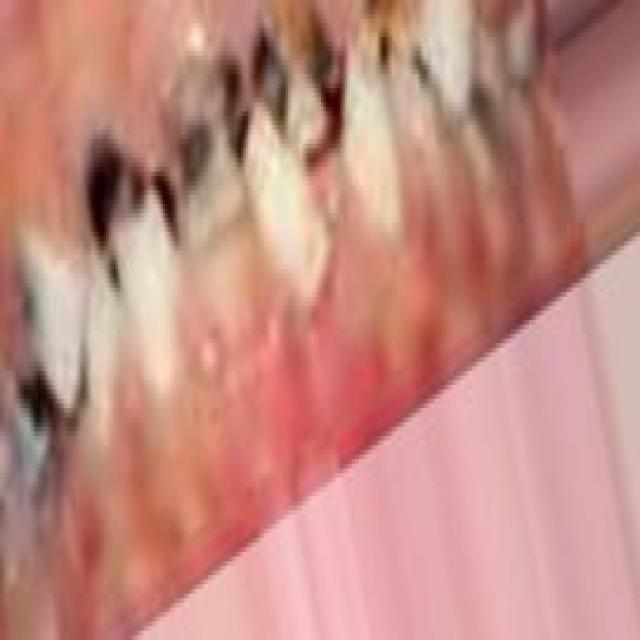caries: (152, 40, 248, 252), (69, 116, 150, 306), (245, 0, 338, 161), (0, 348, 64, 505), (344, 0, 414, 108)
